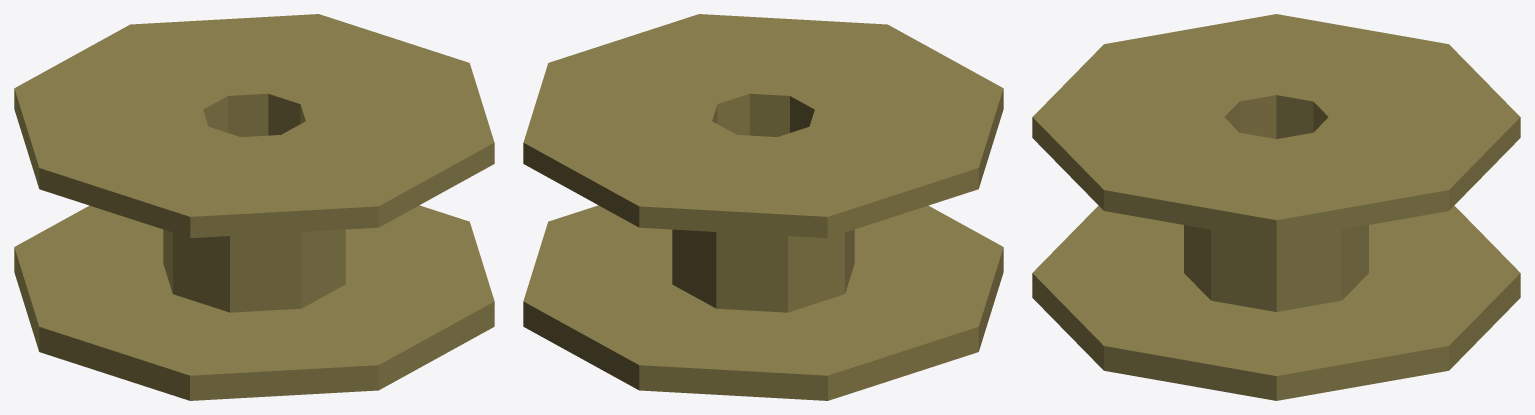
Rendered from cableholder.fbx.
The picture shows the model from 3 angles, left to right: view 1: azimuth 30°, elevation 25°; view 2: azimuth 150°, elevation 25°; view 3: azimuth 270°, elevation 25°; orthographic projection.
Parts seen in each view (by area): view 1: Circle; view 2: Circle; view 3: Circle.
Boxes of the visible parts, left/top/right/bottom form: Circle: left=14, top=14, right=494, bottom=400; Circle: left=523, top=14, right=1003, bottom=400; Circle: left=1032, top=14, right=1520, bottom=400.
Size of the model in its own units: 1 by 0.4085 by 1.
